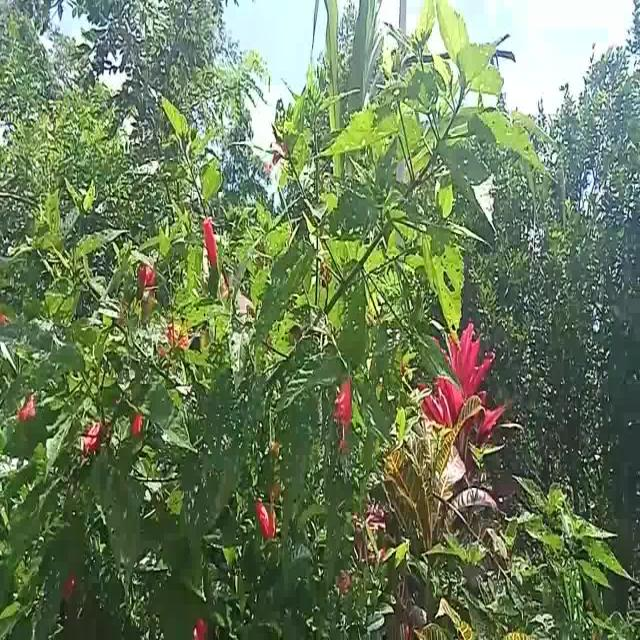Flower: (334, 375, 356, 443), (201, 216, 222, 284), (256, 499, 270, 537)
